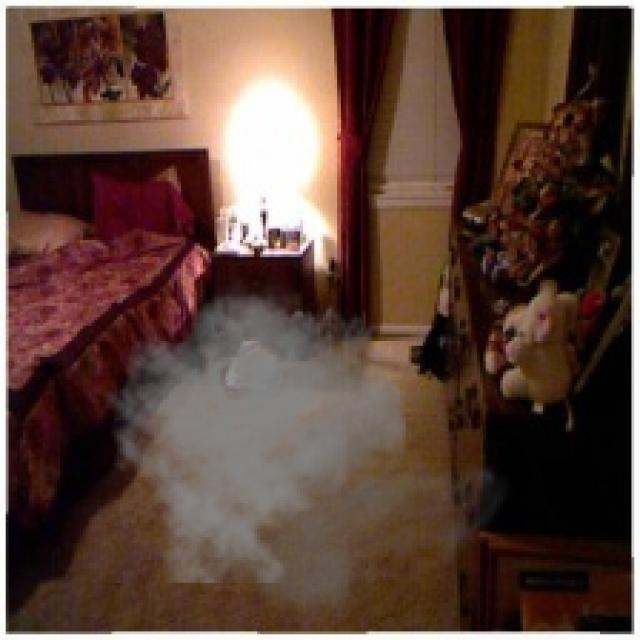Smoke: (102, 268, 514, 626)
